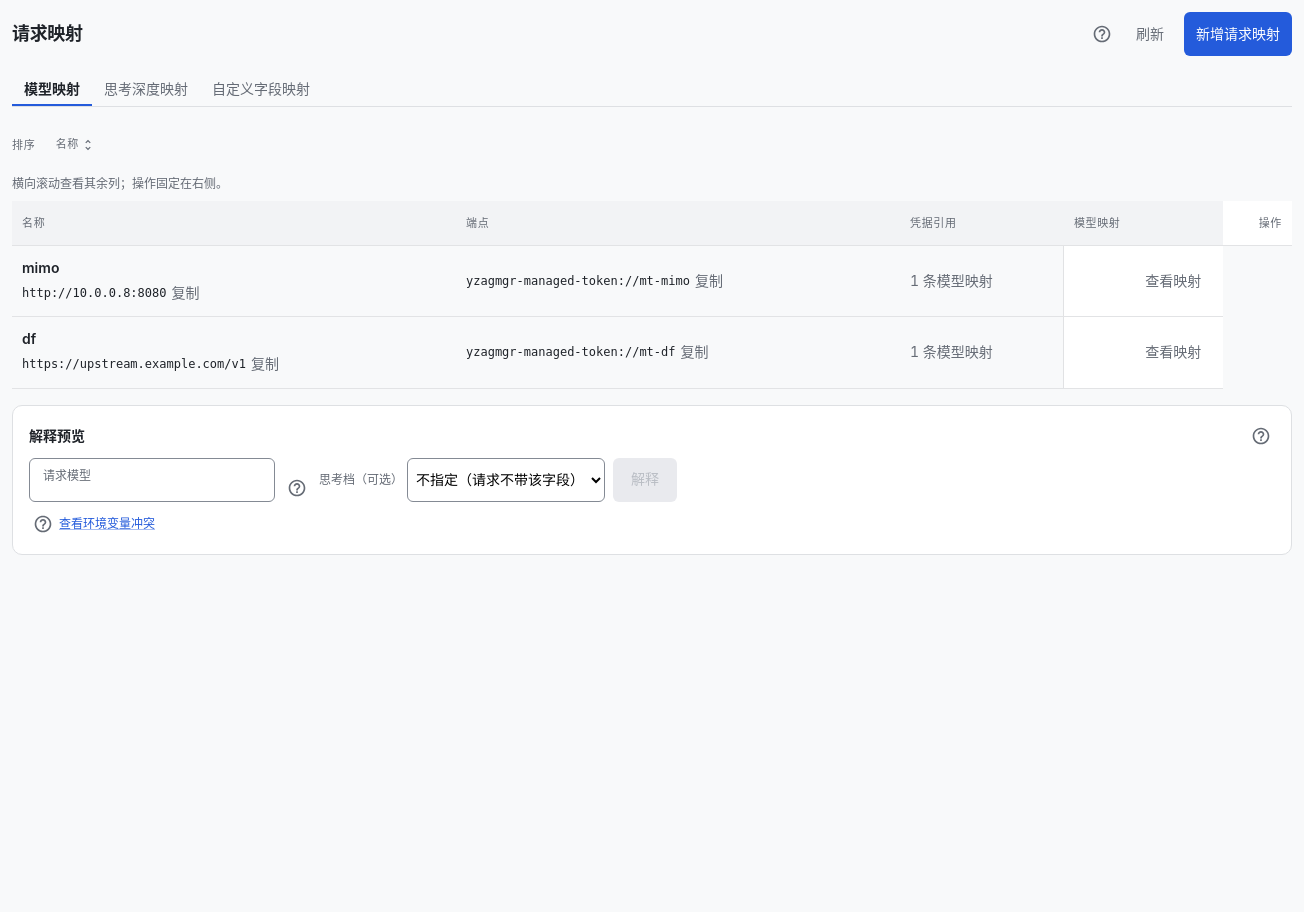
Scenario: RouterPage（UC-023 / UC-028 / UC-029 / UC-036） › 默认子区是模型映射：列出请求映射（端点 + 托管凭据引用）与其模型映射
What coordinates should you click on to do the following:
click the button "查看映射" in the row of "http://10.0.0.8:8080"
I would click on:
 (1173, 281)
Its box is [1133,259,1213,303].
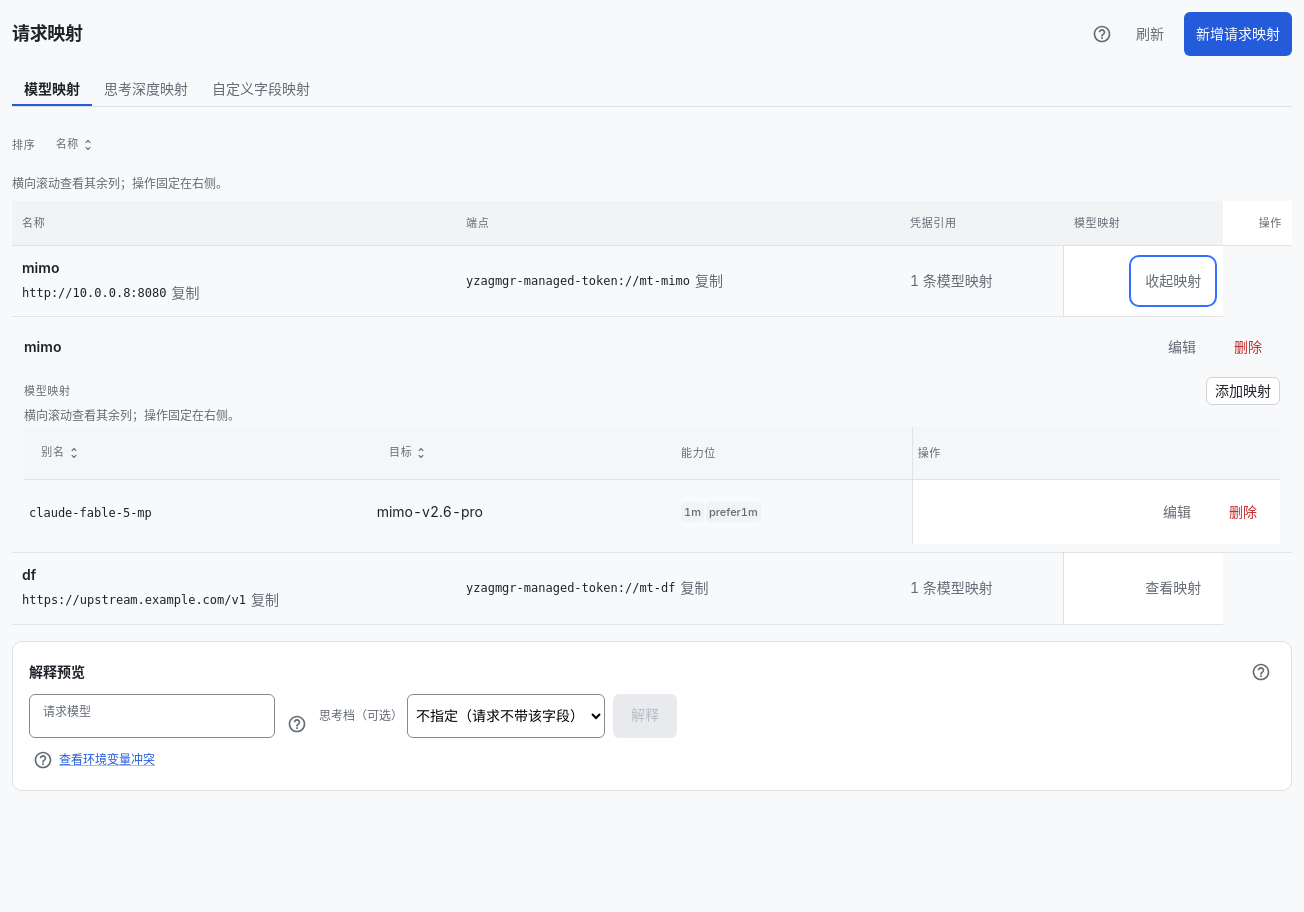
Expected: the element "mimo" is shown, [24,325,1280,544]
Expected: the text "claude-fable-5-mp" is shown, [29,506,152,520]
Expected: the text "mimo-v2.6-pro" is shown, [377,503,483,520]
